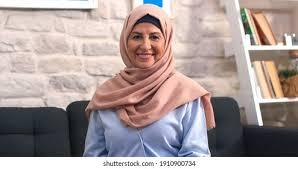scarf-kerchief: (100, 1, 204, 95)
